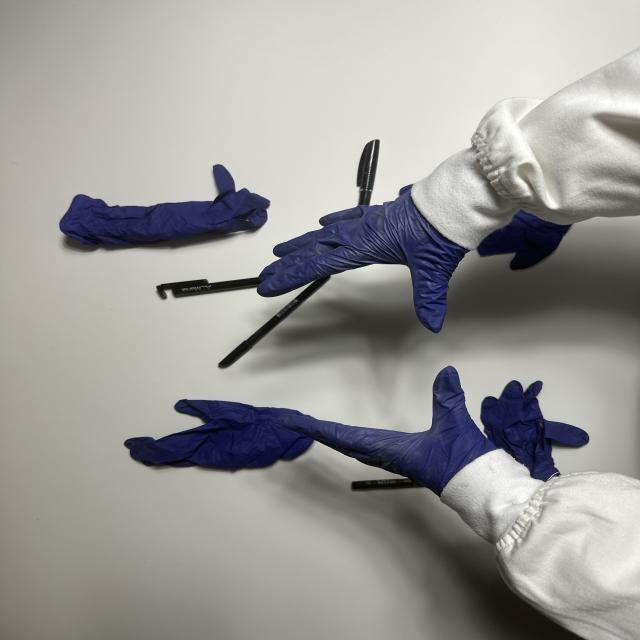gloves_contaminated: (258, 192, 469, 332), (278, 366, 496, 496)
